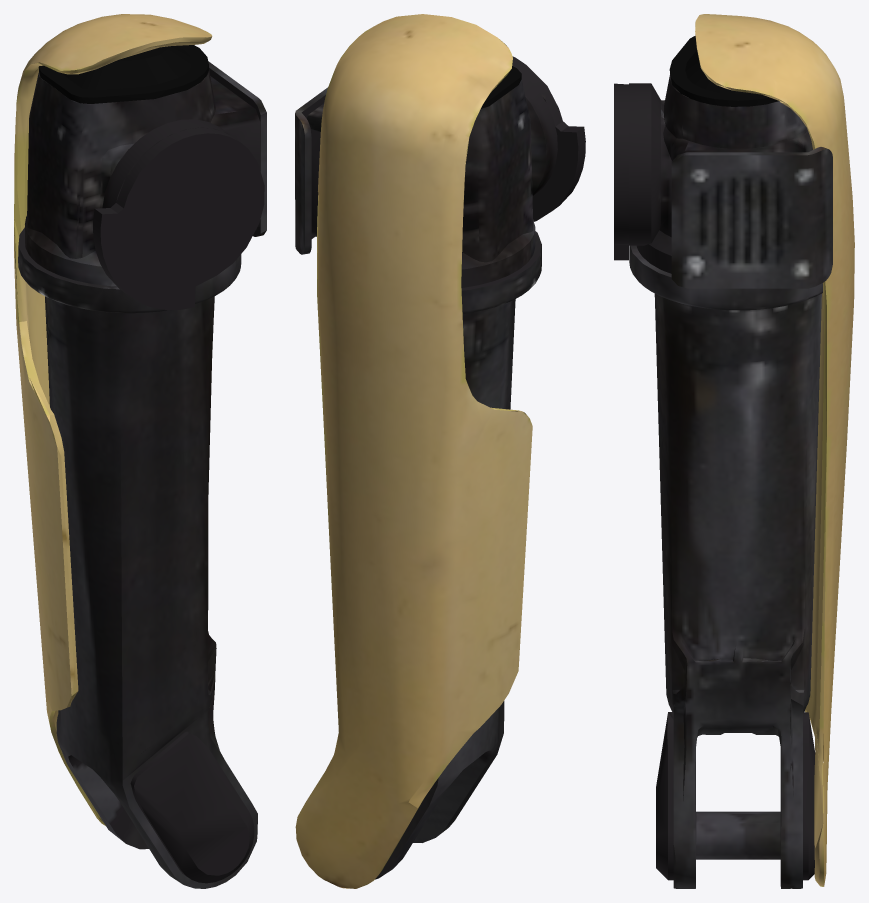
Rendered from hl_uleg.dae.
3 renders of one model, left to right at view 1: azimuth 30°, elevation 25°; view 2: azimuth 150°, elevation 25°; view 3: azimuth 270°, elevation 25°, orthographic. The views are drawn at different scales.
Visible parts, largest first — view 1: Fl Uleg.004, leg_cap; view 2: Fl Uleg.004, leg_cap; view 3: Fl Uleg.004, leg_cap.
Part boxes in pixels (x1,y1,x2,y2): Fl Uleg.004: (14, 14, 266, 888); leg_cap: (38, 45, 208, 103); Fl Uleg.004: (295, 14, 585, 888); leg_cap: (481, 66, 521, 108); Fl Uleg.004: (614, 14, 854, 888); leg_cap: (669, 35, 778, 106).
Bounding box in the file's own units: 0.101 × 0.108 × 0.4112.
3 materials, 2 textured.
